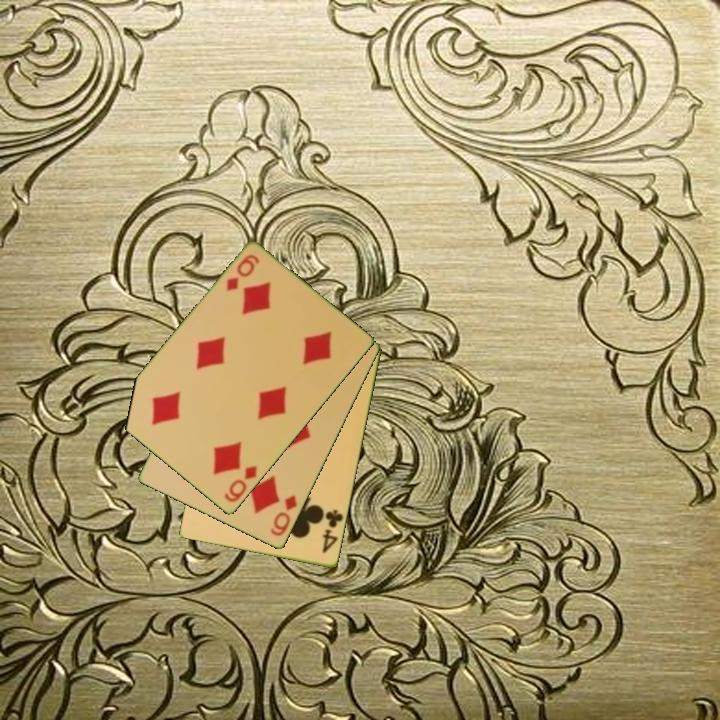4c: (319, 506, 346, 556)
6d: (221, 462, 260, 506), (223, 251, 262, 294), (267, 492, 300, 539)
